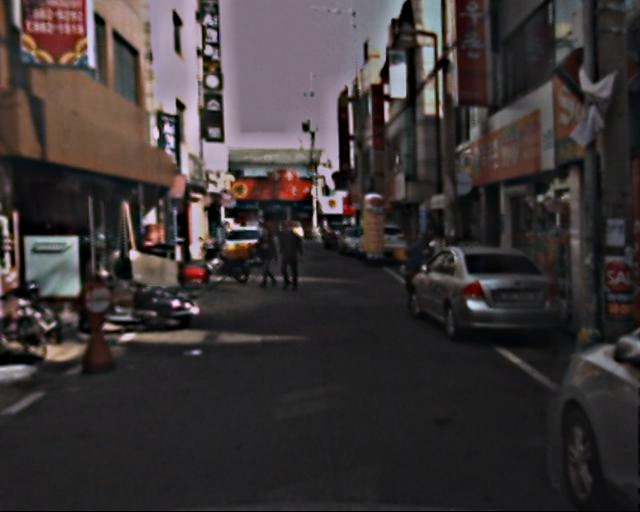person: (277, 217, 307, 296), (401, 226, 429, 309), (256, 220, 282, 289)
